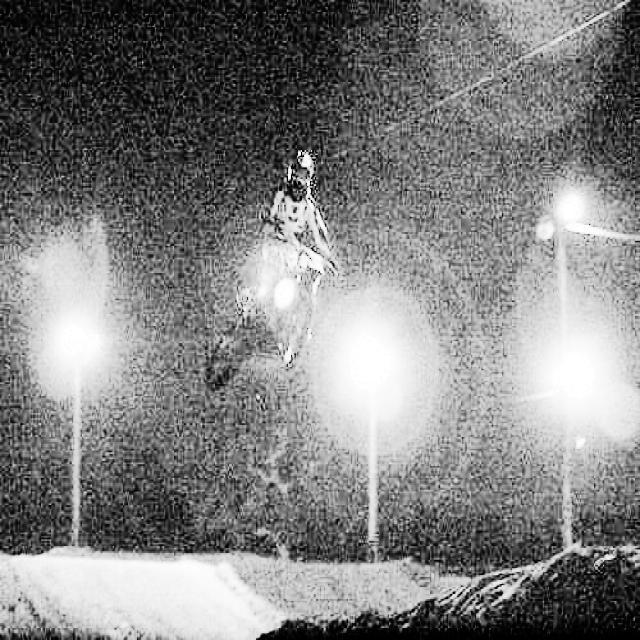Motorcycle: (222, 234, 331, 413)
